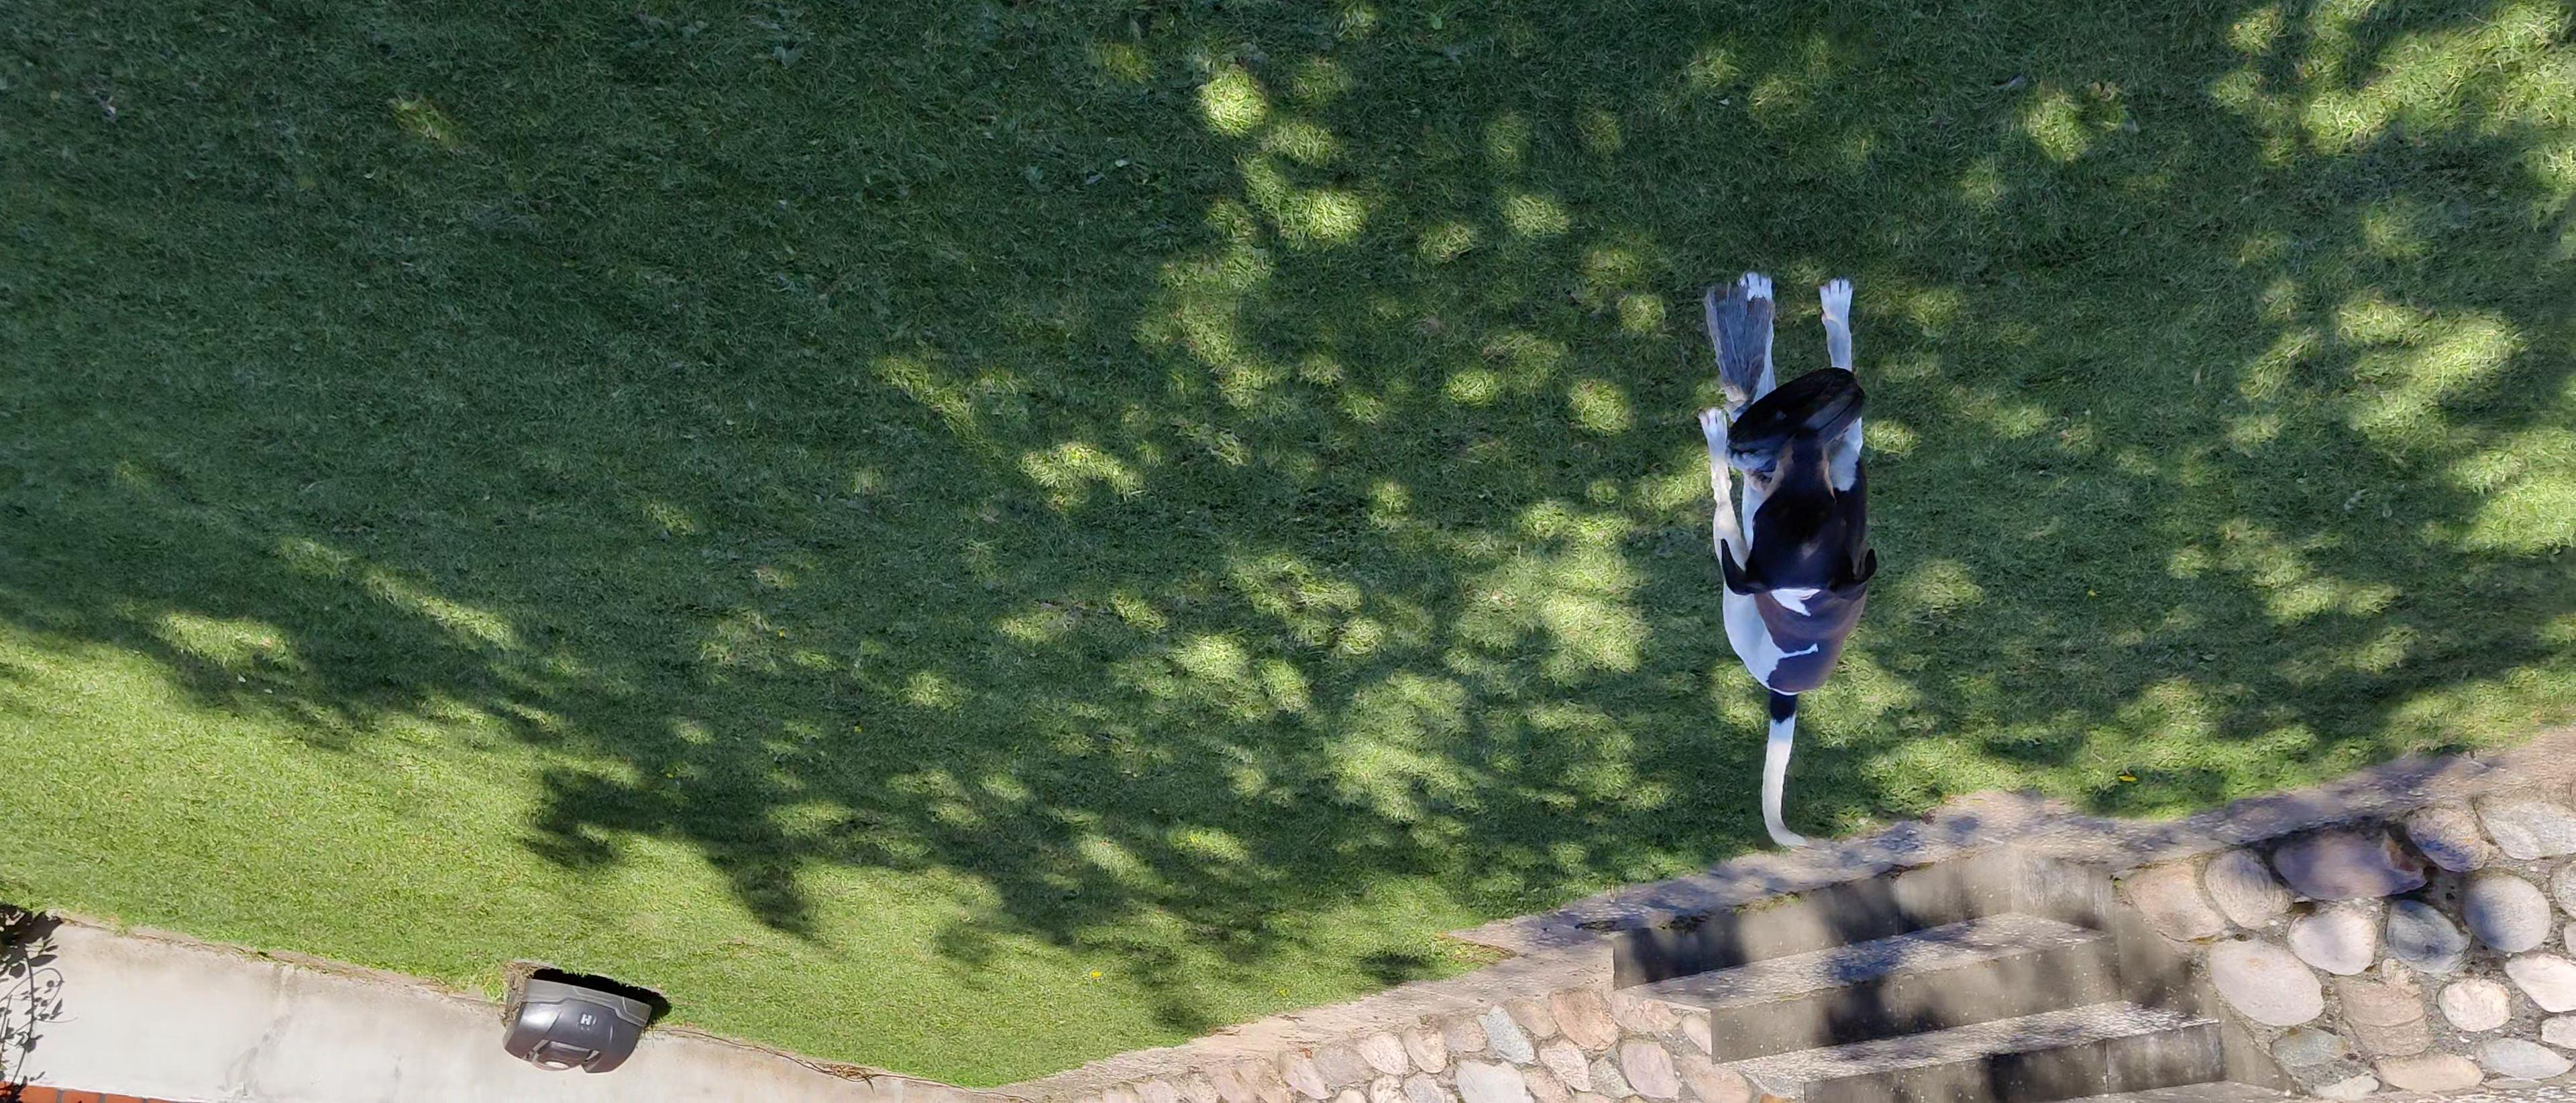Dog: (1658, 256, 1893, 851)
